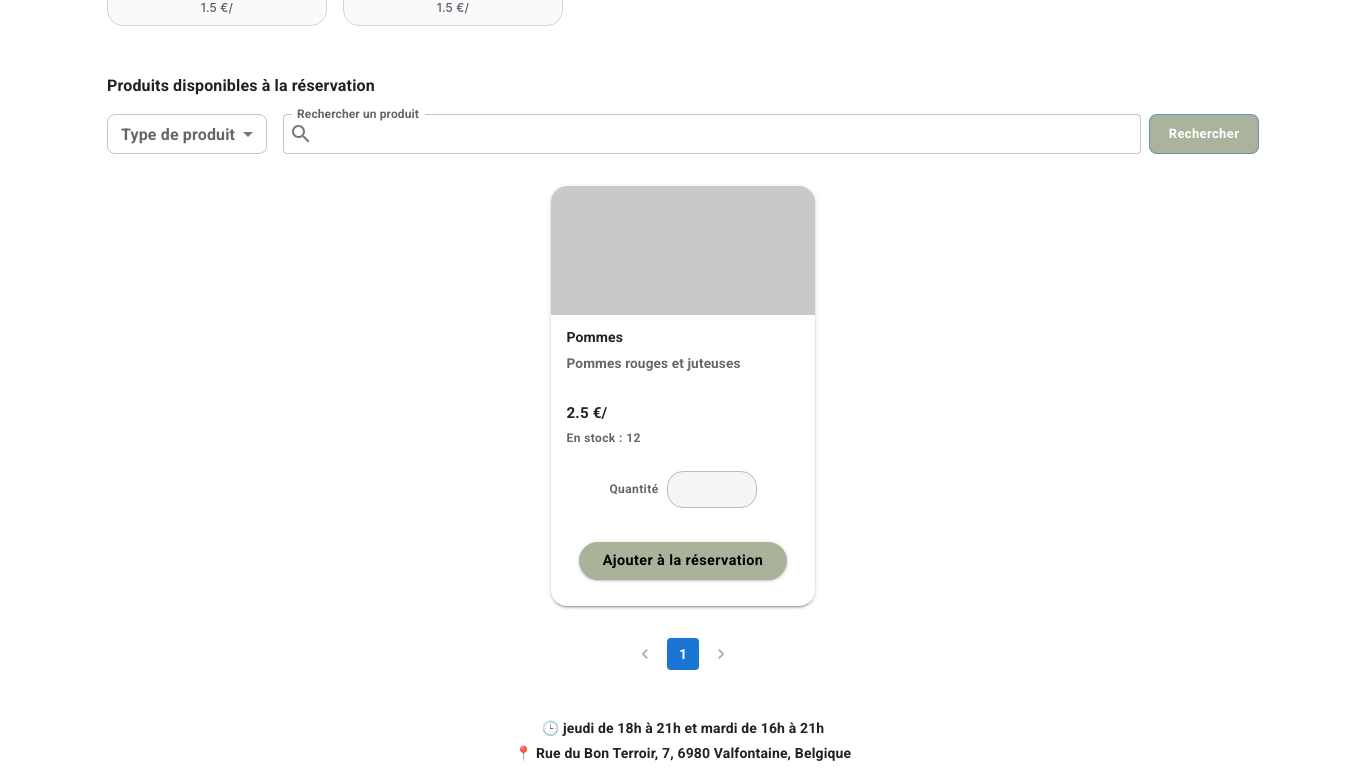
Test case: HomePage › shows confirmation dialog when user is logged in
(page scrolled)
Click the button "Ajouter à la réservation": (683, 561) left=579, top=542, right=787, bottom=579
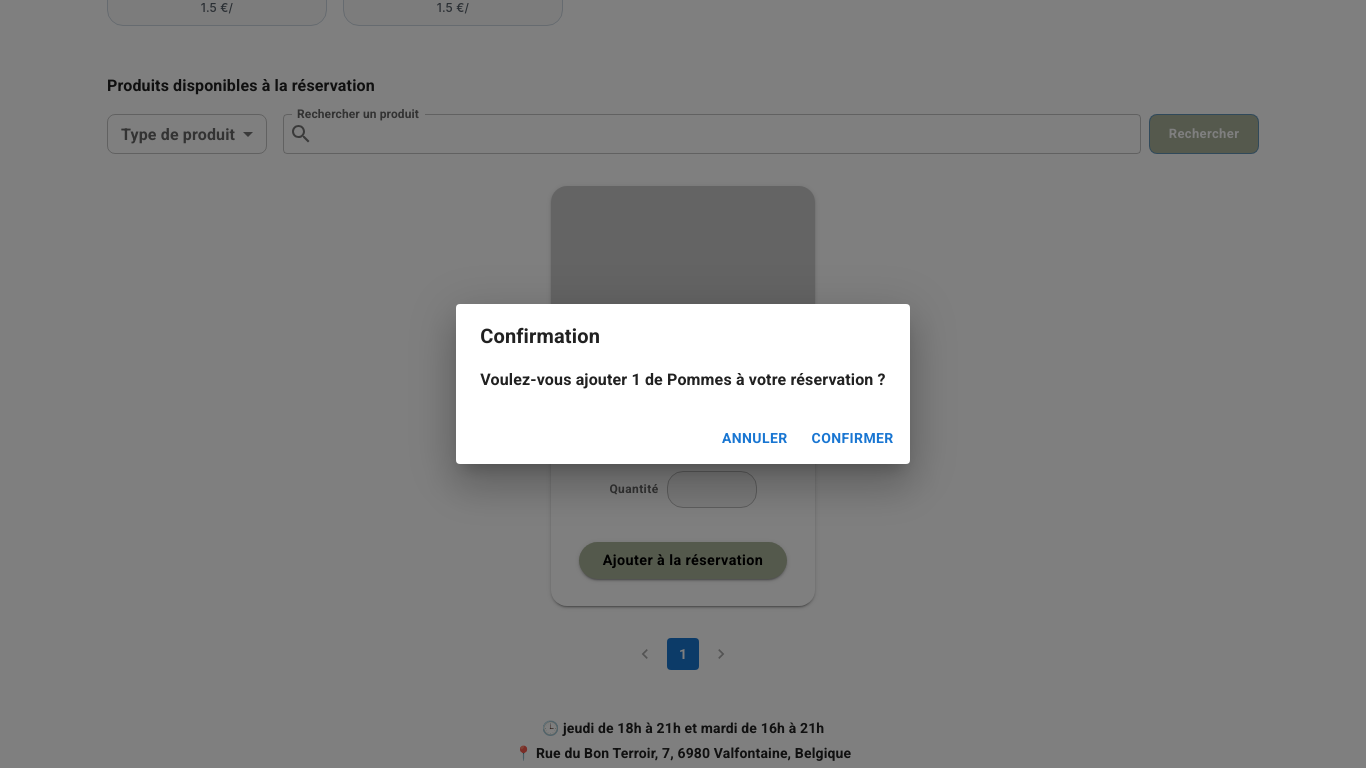
Expected: the heading "Confirmation" is shown, left=480, top=324, right=600, bottom=348
